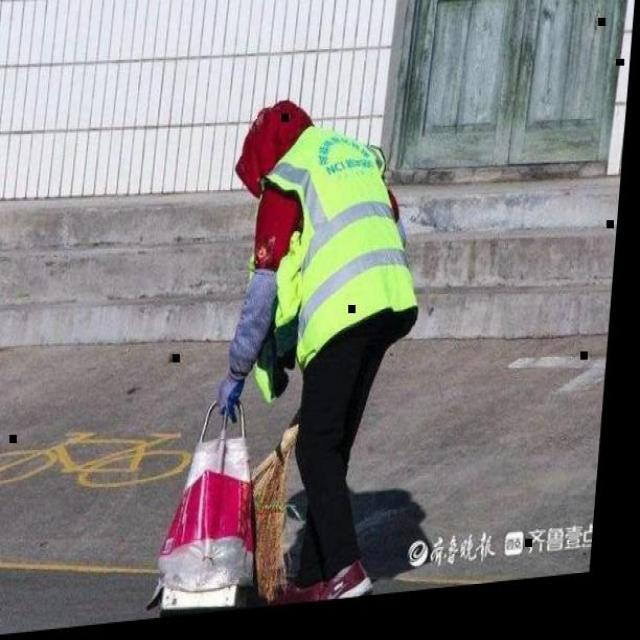safety_helmet: (225, 128, 422, 346)
